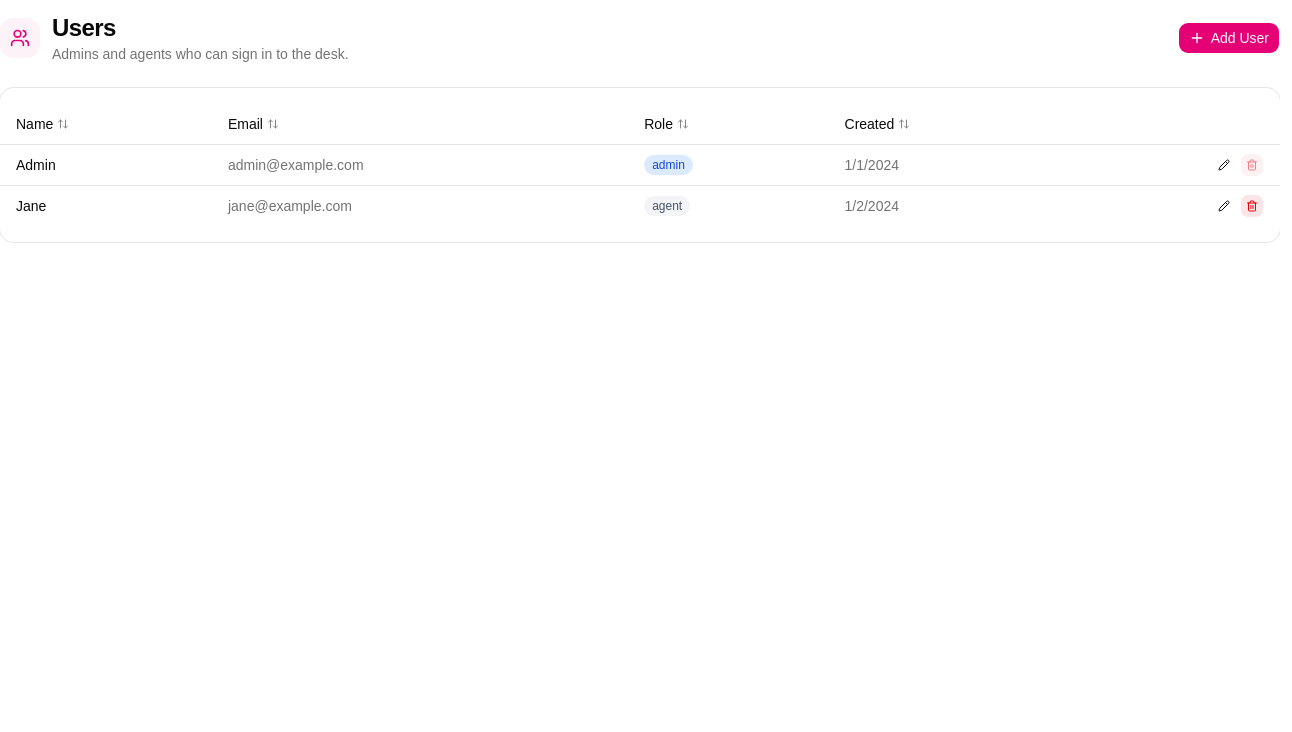
Test: Users page › "Add User" form › closes the form when "Cancel" is clicked
expect the text "Admin" is shown: met, box top-left (16, 156), bottom-right (56, 172)
Step 1. Click the button "Add User" → {"x": 1229, "y": 38}, box top-left (1178, 22), bottom-right (1280, 54)
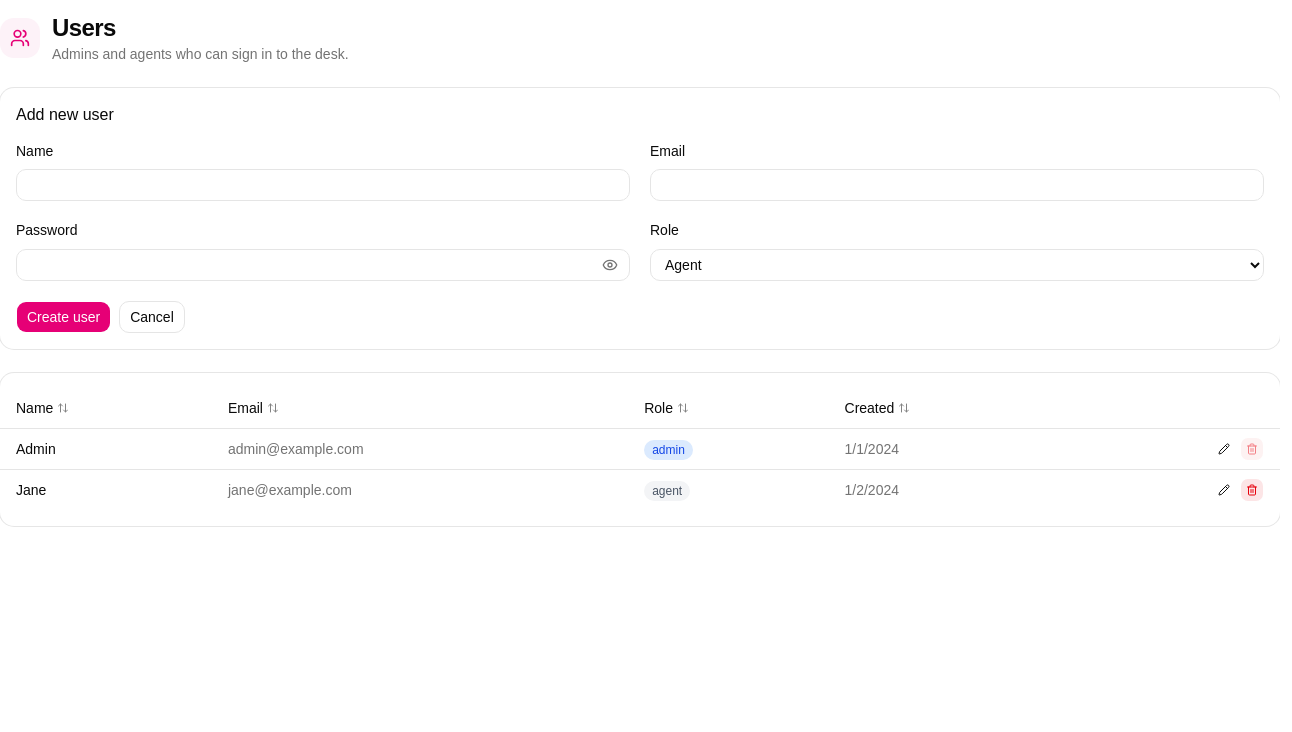
Step 2. Click the button "Cancel" → {"x": 152, "y": 316}, box top-left (119, 300), bottom-right (185, 332)
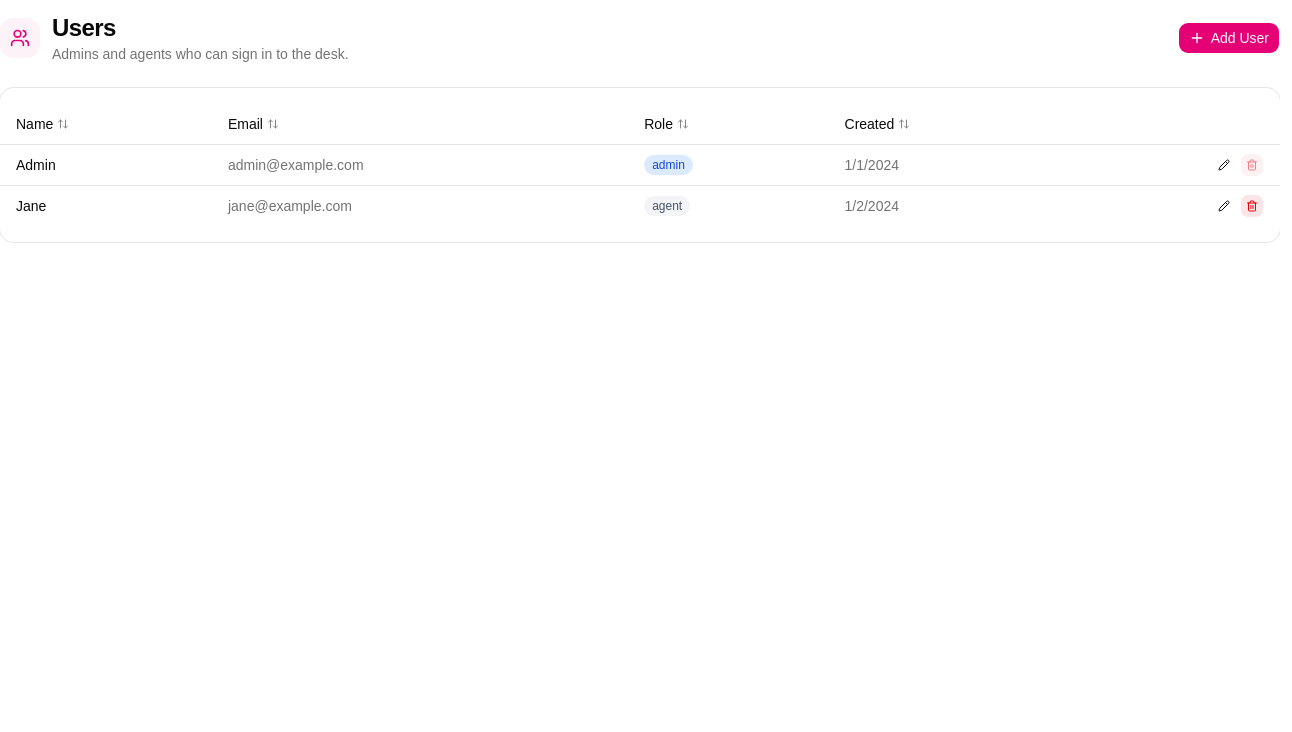
expect the text "Add new user" is gone: met
